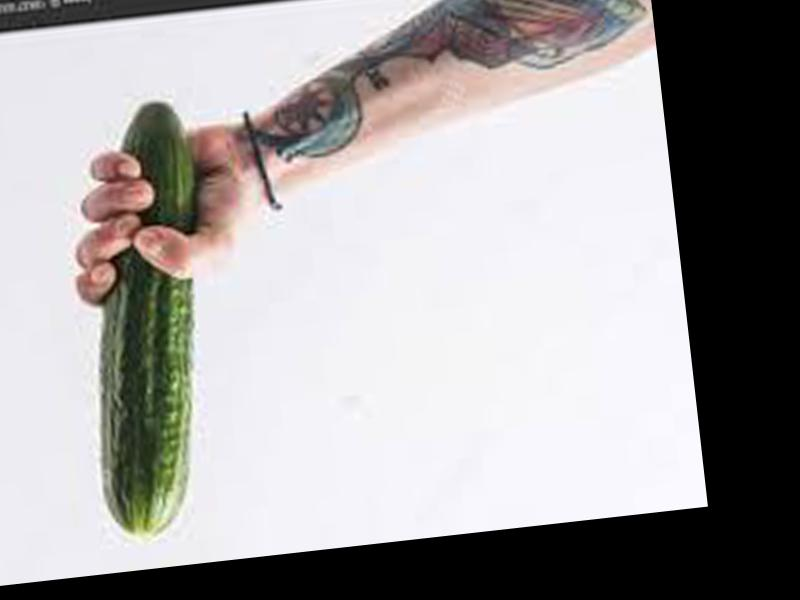Cucumber: (60, 102, 232, 544)
